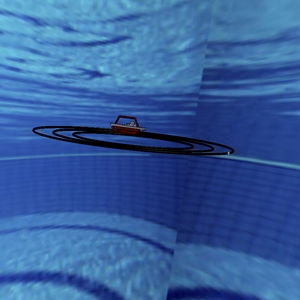circle: (17, 101, 251, 171)
submarine: (105, 111, 148, 139)
